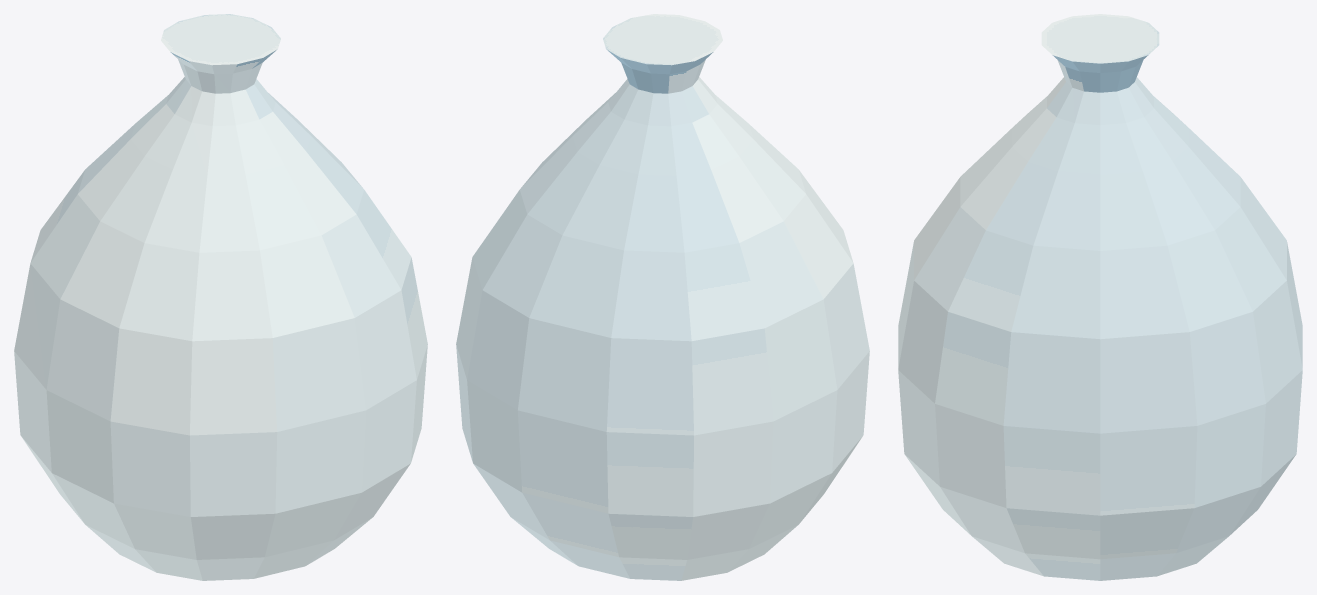
The model's file is kingyo.glb.
3 views of the same model, side by side, from view 1: azimuth 30°, elevation 25°; view 2: azimuth 150°, elevation 25°; view 3: azimuth 270°, elevation 25° (orthographic).
Parts seen in each view (by area): view 1: bag; view 2: bag; view 3: bag.
Part boxes in pixels (x1,y1,x2,y2): bag: (14, 14, 427, 580); bag: (456, 14, 869, 580); bag: (898, 14, 1302, 580).
Size of the model in its own units: 26.81 by 36 by 26.81.
2 materials, 2 textured.
